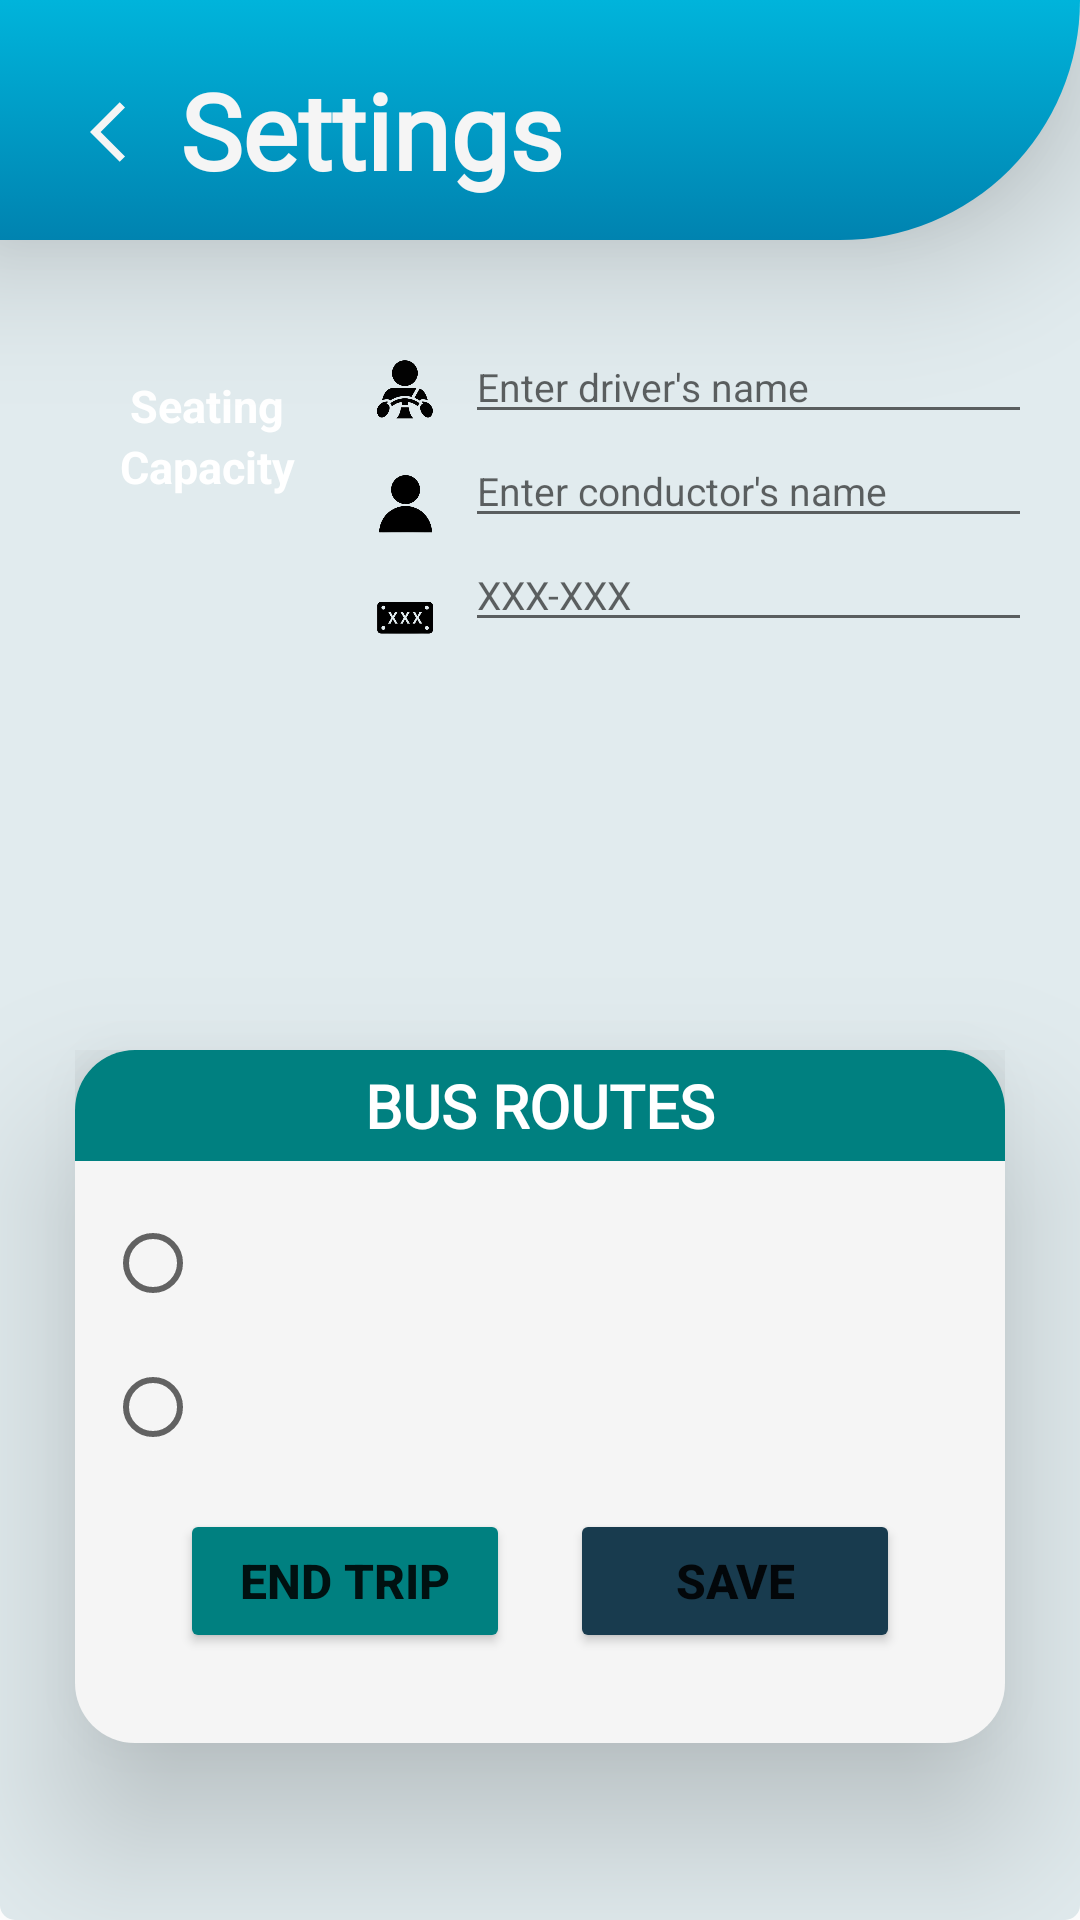

Screen size 1080×1920. Icon name, then its box in pixels as [x1=x1, y1=y1, x2=x2, y2=y2]:
platenumber: [x1=377, y1=602, x2=433, y2=634]
